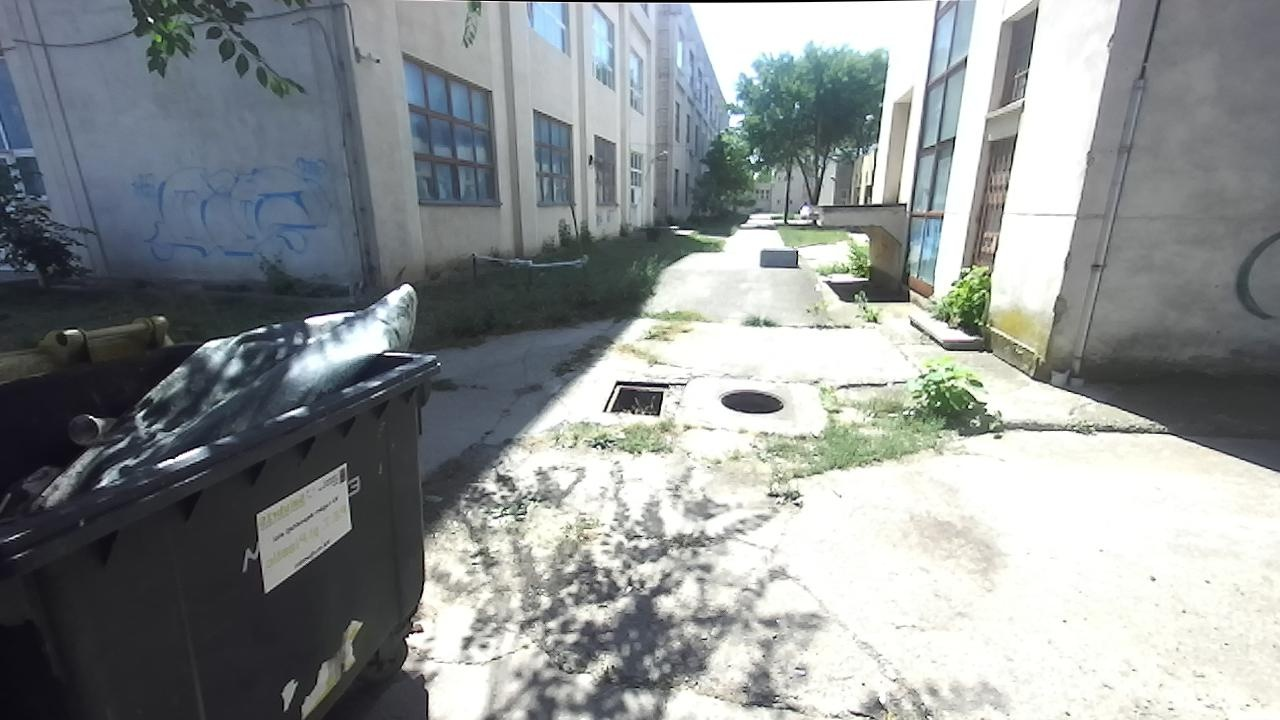drain: (715, 379, 790, 421), (603, 380, 671, 417)
